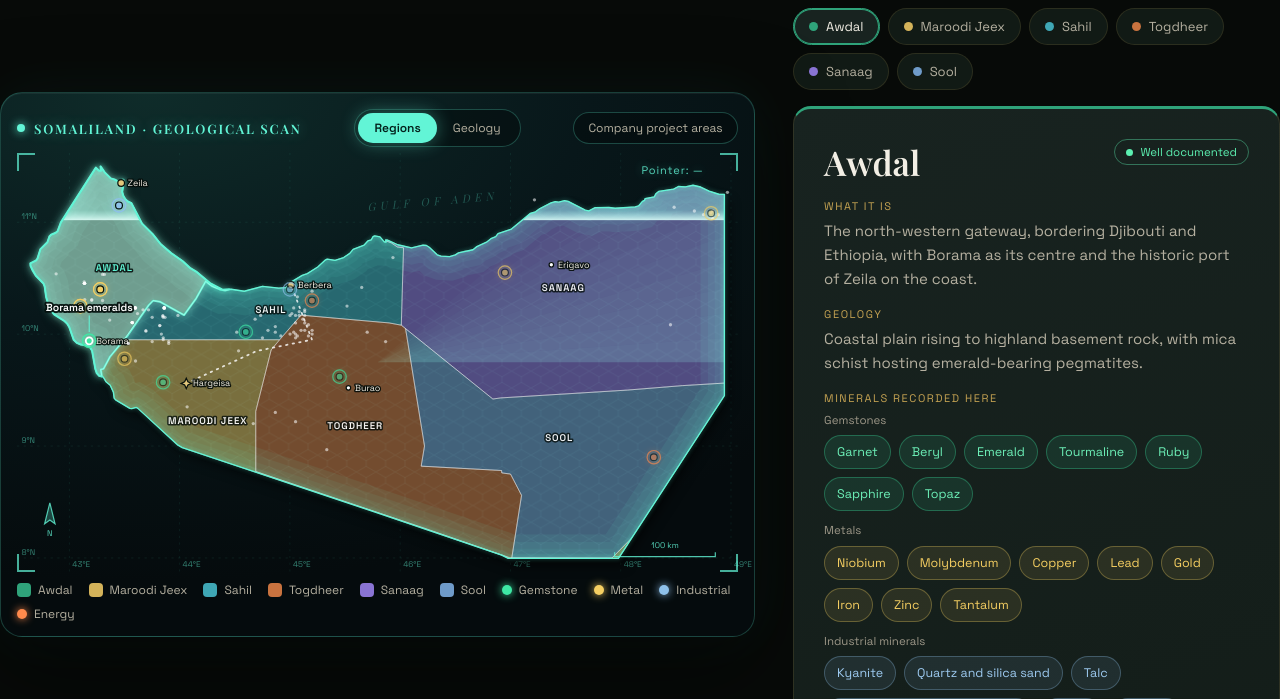
Test: SomalilandMap › lists every place tantalum is recorded and highlights it when the visitor picks it
Click the button "Tantalum".
click(981, 605)  # box [940,588,1022,622]
(page scrolled)
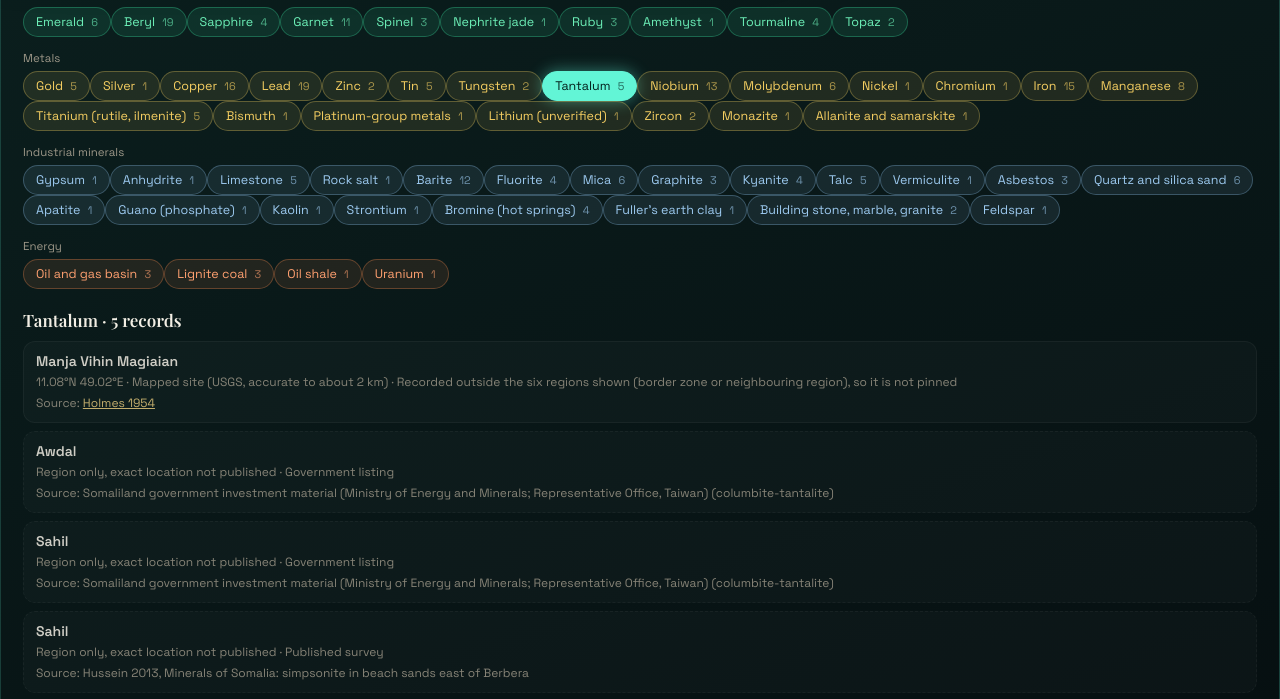
Now the heading "Tantalum · 5 records" is shown, box [23,309,182,331]
Now the text "Manja Vihin Magiaian" is shown, box [36,352,178,370]
